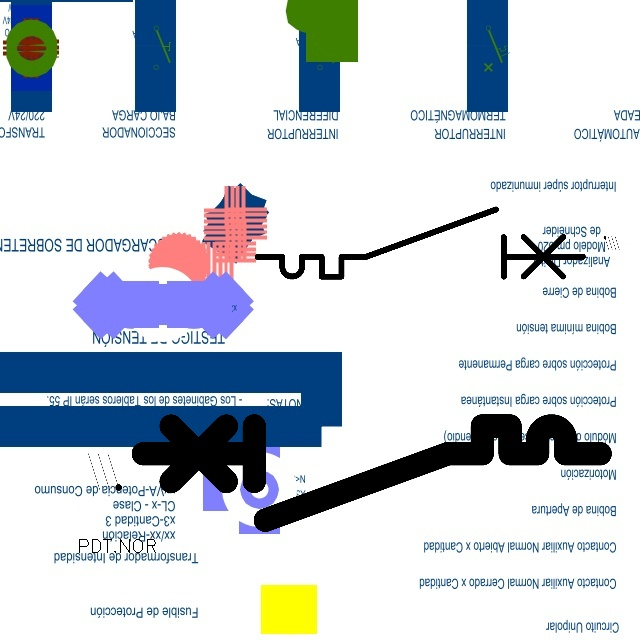interruptor_termomagnetico: (131, 414, 612, 531), (249, 201, 591, 285)
